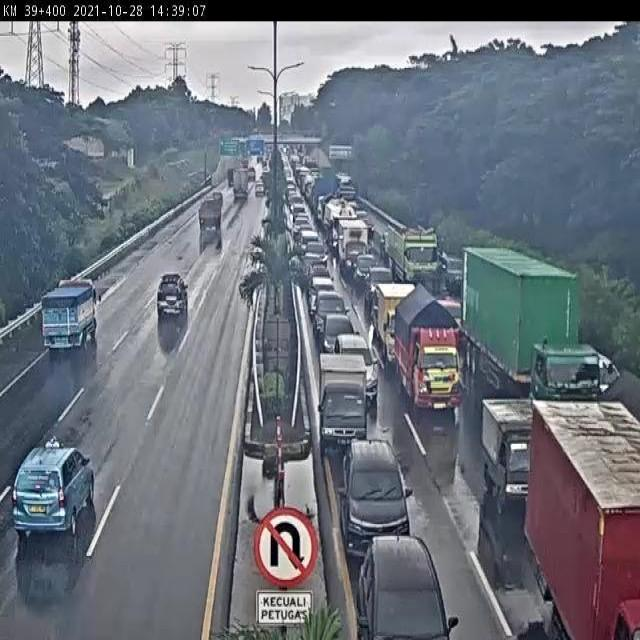big truck: (461, 267, 622, 405), (46, 262, 102, 358), (389, 222, 448, 298)
car: (342, 522, 461, 640), (11, 429, 97, 554), (339, 432, 416, 565), (329, 329, 384, 412), (152, 268, 195, 324), (316, 309, 357, 360), (309, 288, 348, 337), (307, 272, 345, 312), (439, 250, 465, 302), (367, 262, 395, 310), (303, 252, 333, 291), (353, 251, 381, 289)
small truck: (475, 389, 549, 516), (395, 286, 467, 414), (316, 360, 374, 453), (385, 281, 413, 359)
